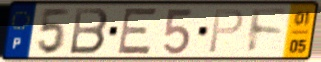5: (36, 7, 72, 56), (161, 6, 196, 56)
B: (68, 6, 111, 56)
E: (115, 7, 160, 56)
F: (247, 7, 289, 57)
P: (206, 7, 246, 55)
